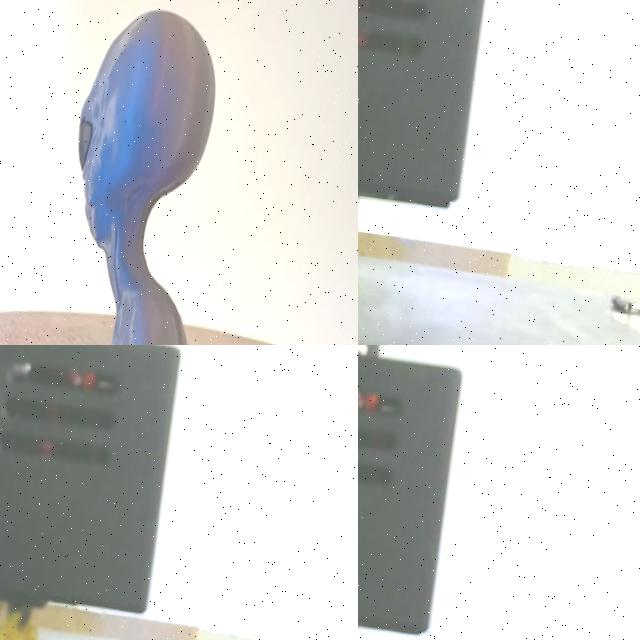spaghetti: (0, 600, 37, 640)
